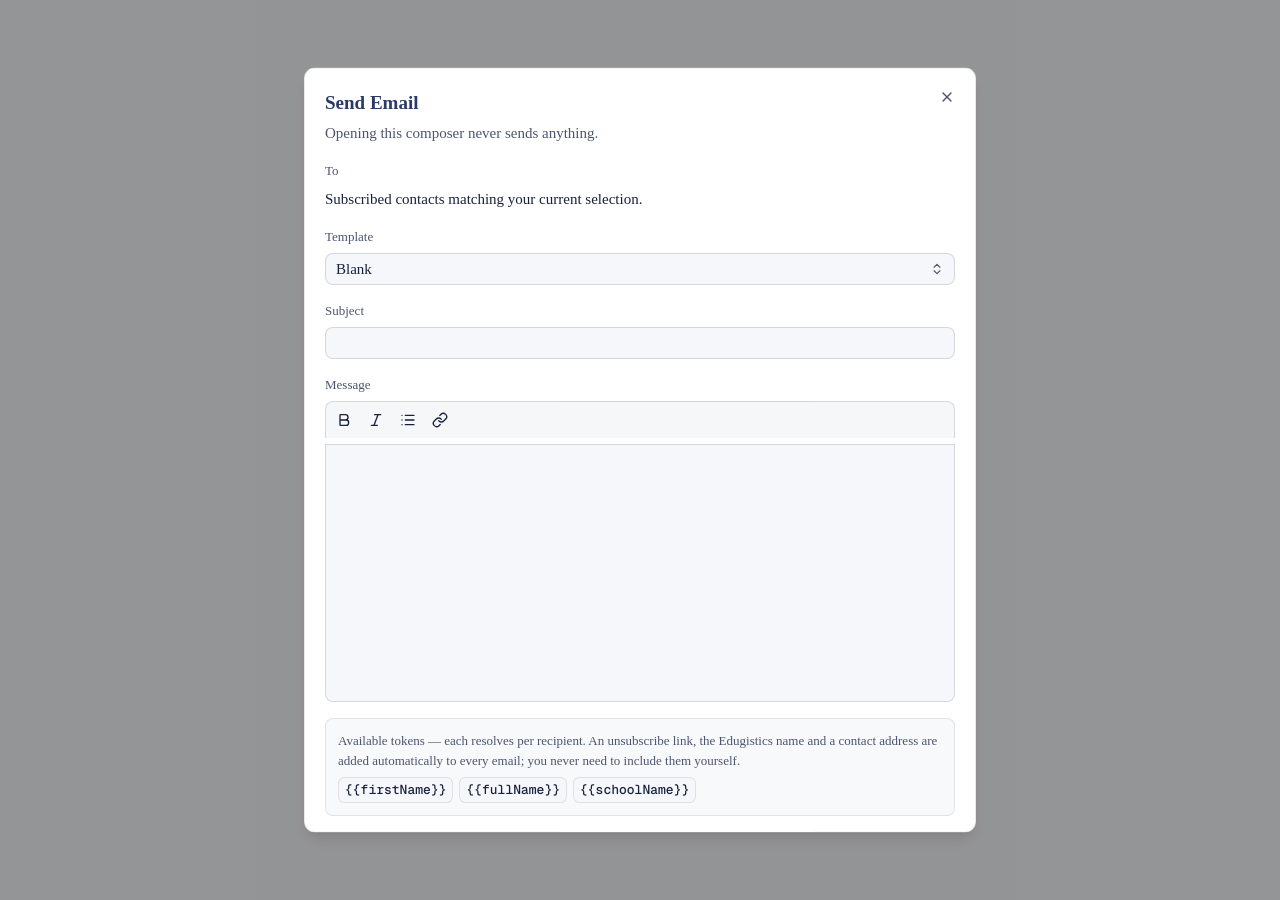
SubscribersEmailComposer — Send (main campaign send) › never leaves Send stuck on "Sending…" when the request itself rejects
This screenshot has width=1280, height=900.
In the field labelled "Subject": [640, 342] box [325,326,955,358], type "Subject line"
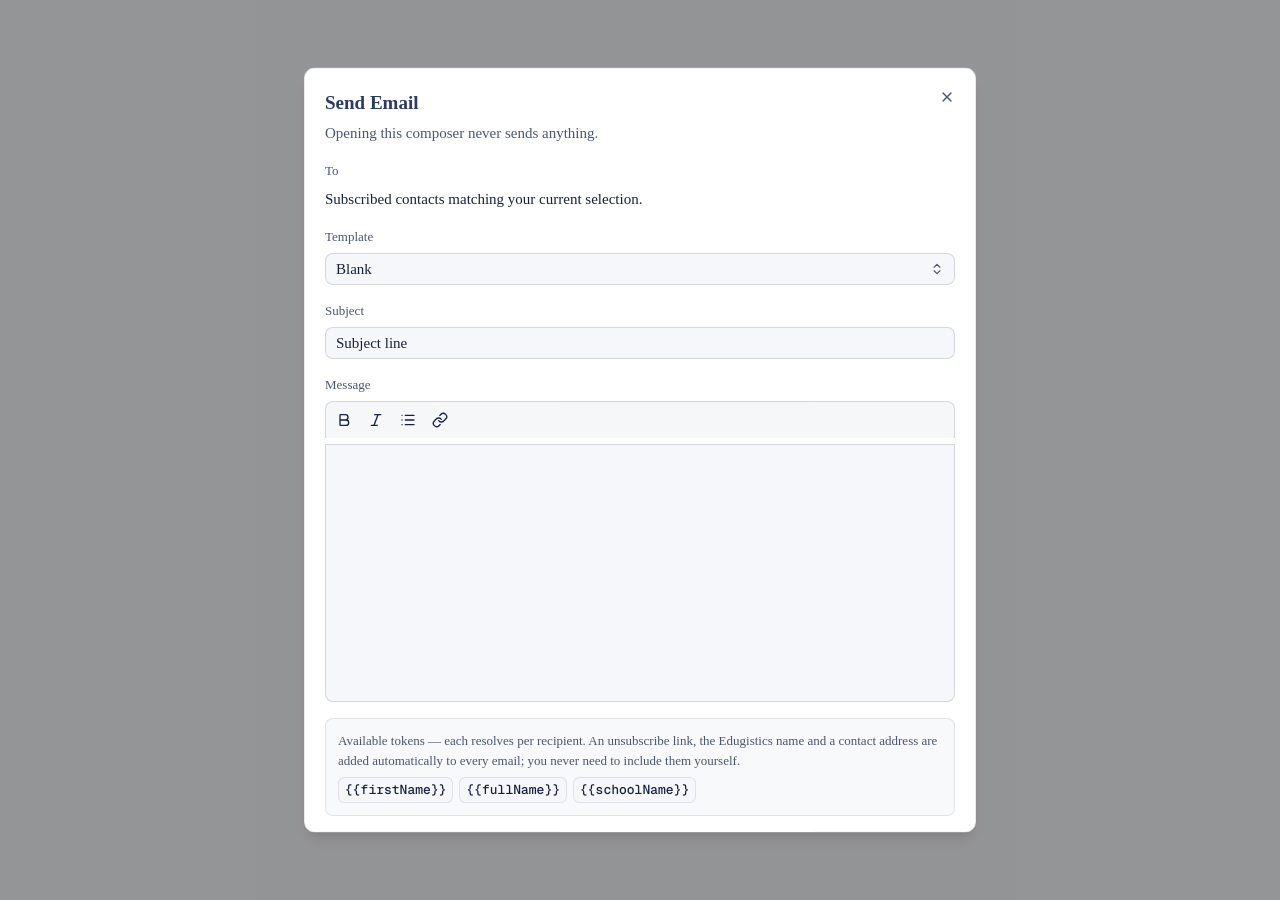
In the text box labelled "Message": [640, 572] box [325,444,955,702], type "Message body"
(page scrolled)
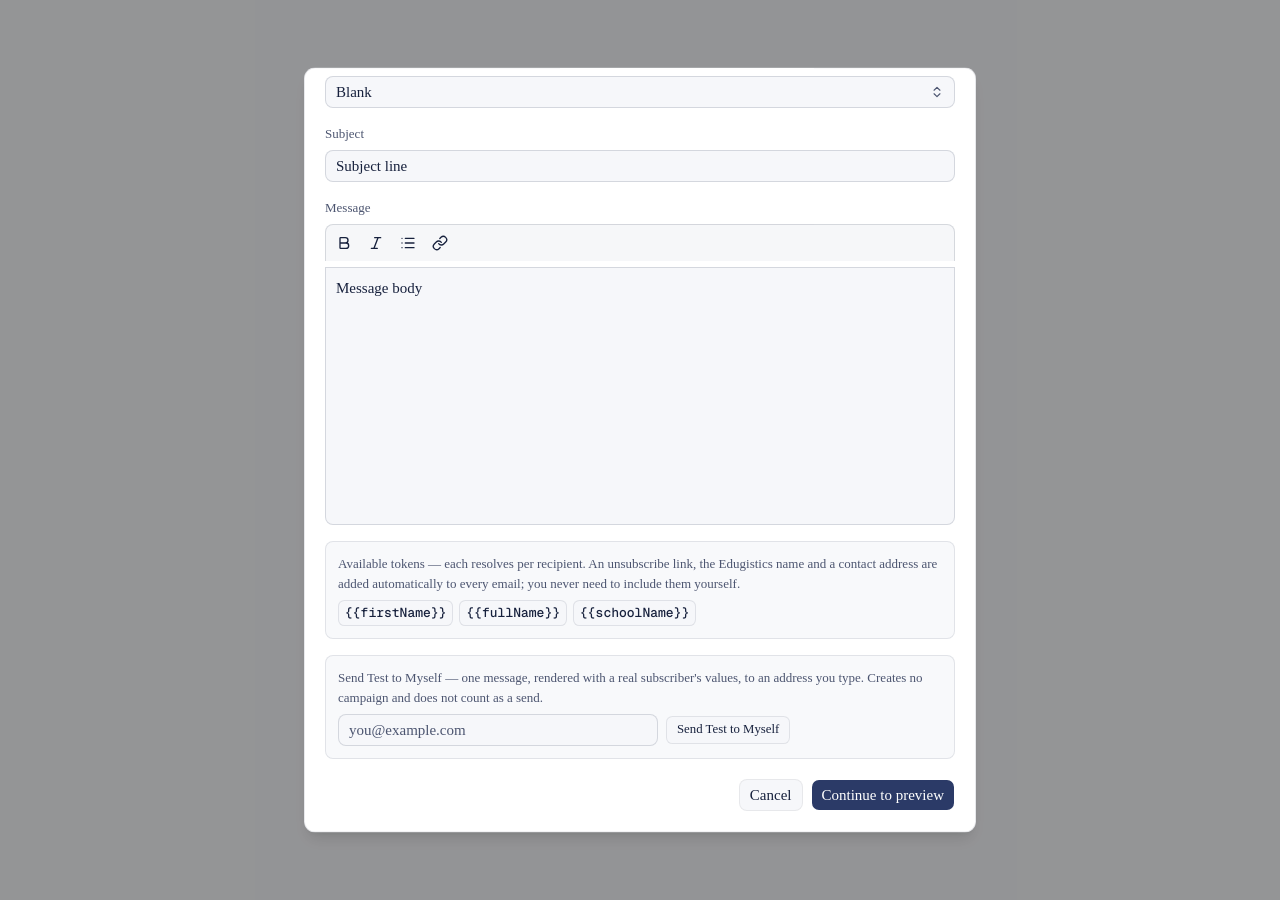
Click the button "Continue to preview": [883, 796] box [810,780,955,812]
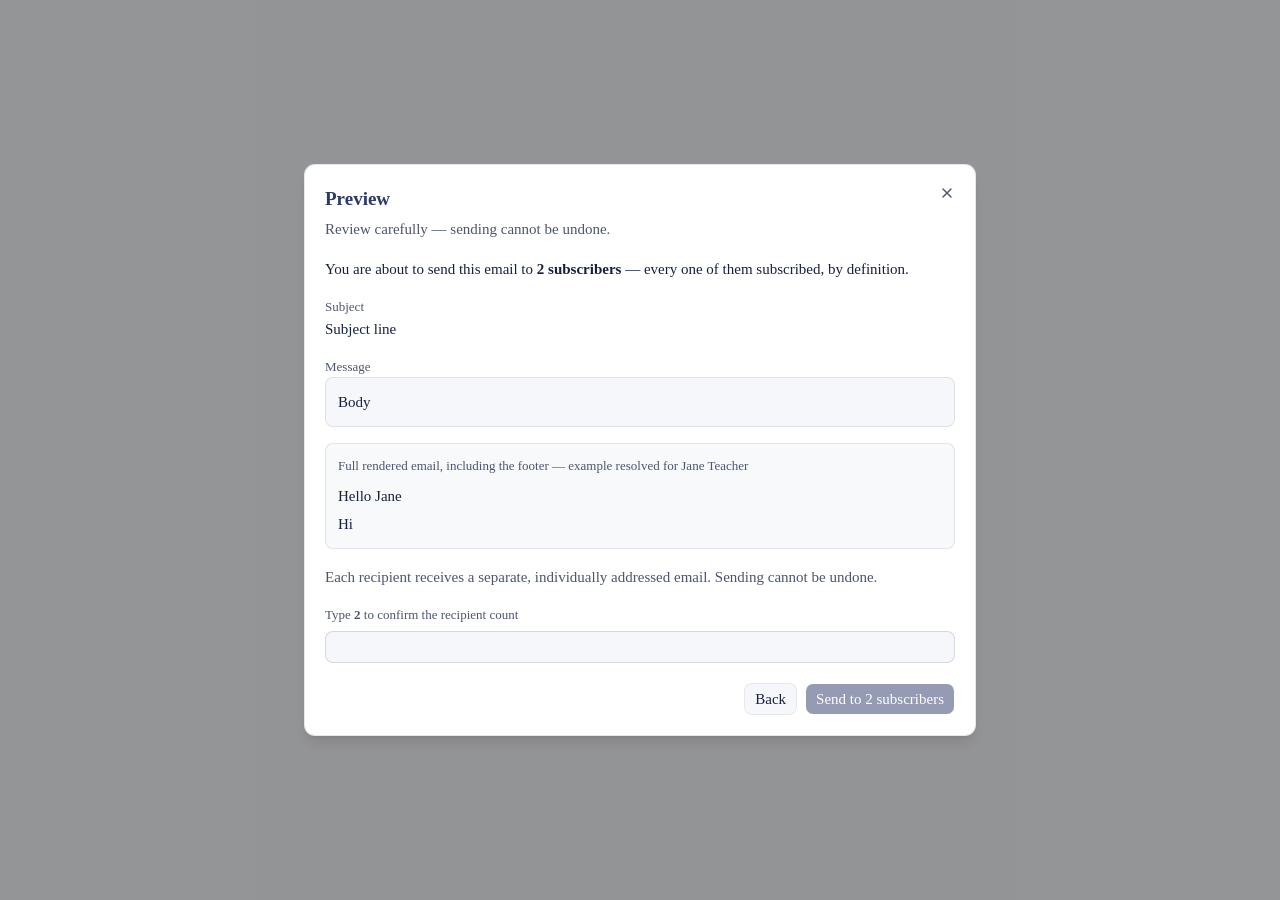
Expected: the heading "Preview" is shown, [325,188,390,209]
In the field labelled "Type 2 to confirm the recipient count": [640, 647] box [325,631,955,663], type "2"
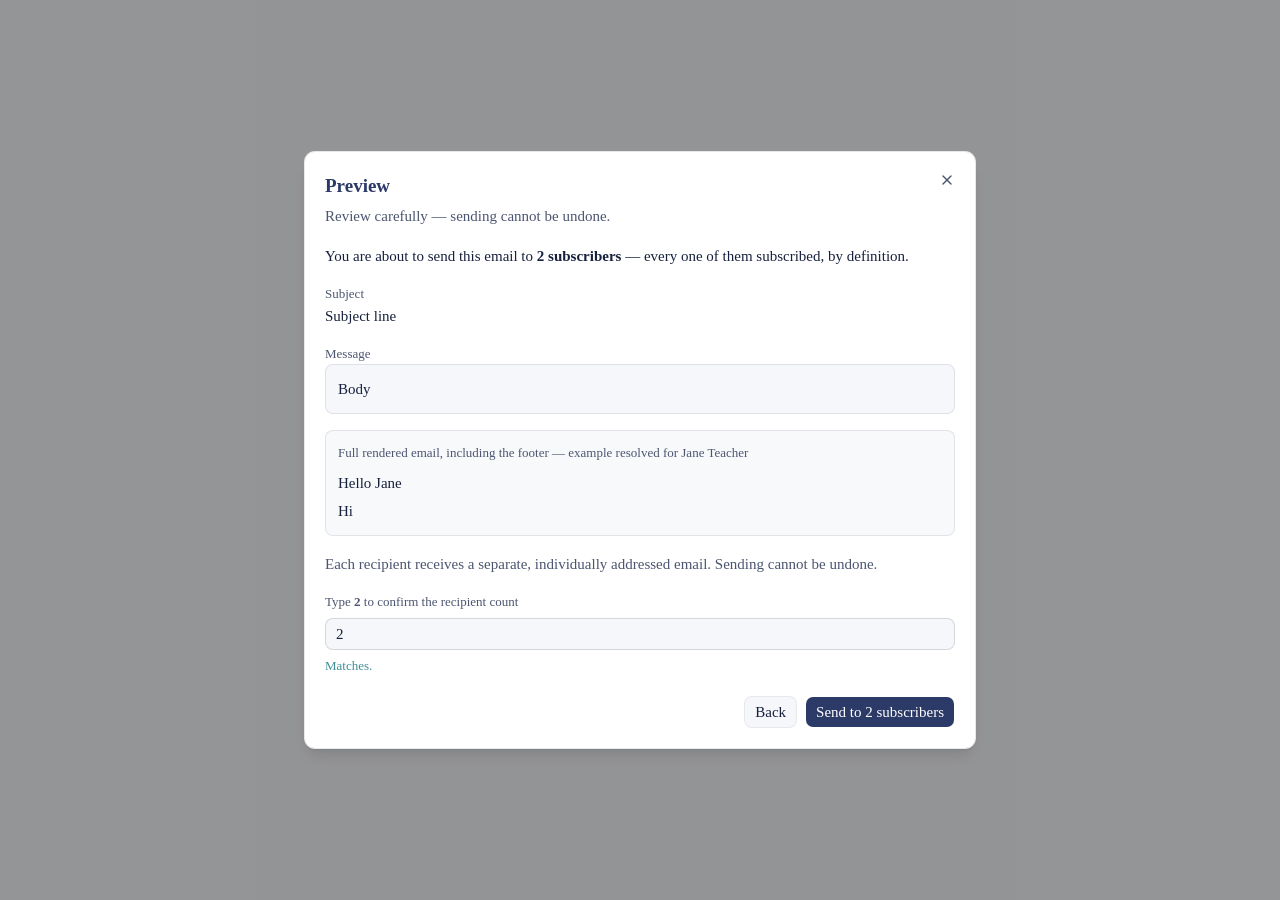
Click the button "Send to 2 subscribers": [880, 712] box [805,696,955,728]
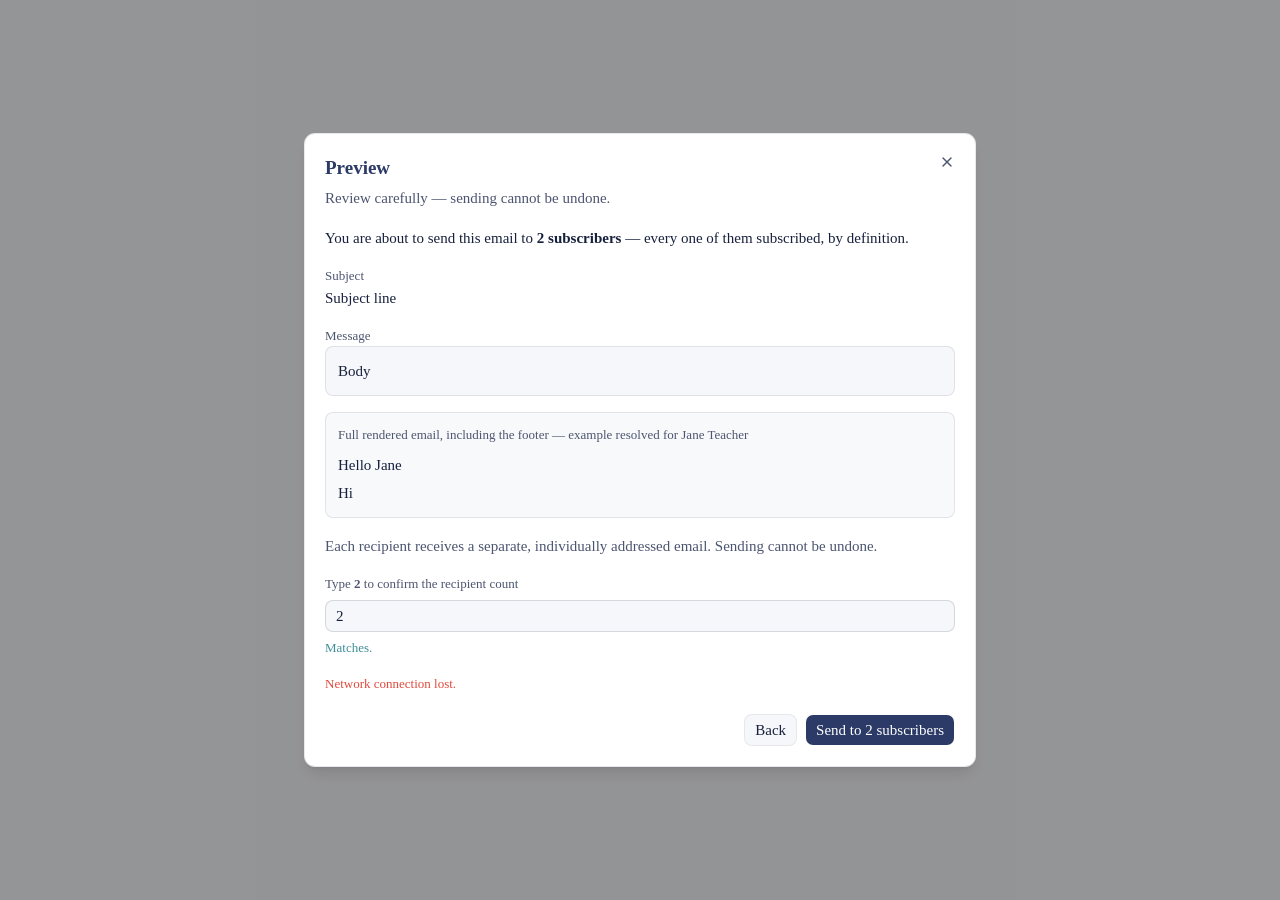
Expected: the button "Send to 2 subscribers" is enabled, [805,714,955,746]
Expected: the text "Network connection lost." is shown, [325,676,456,691]
